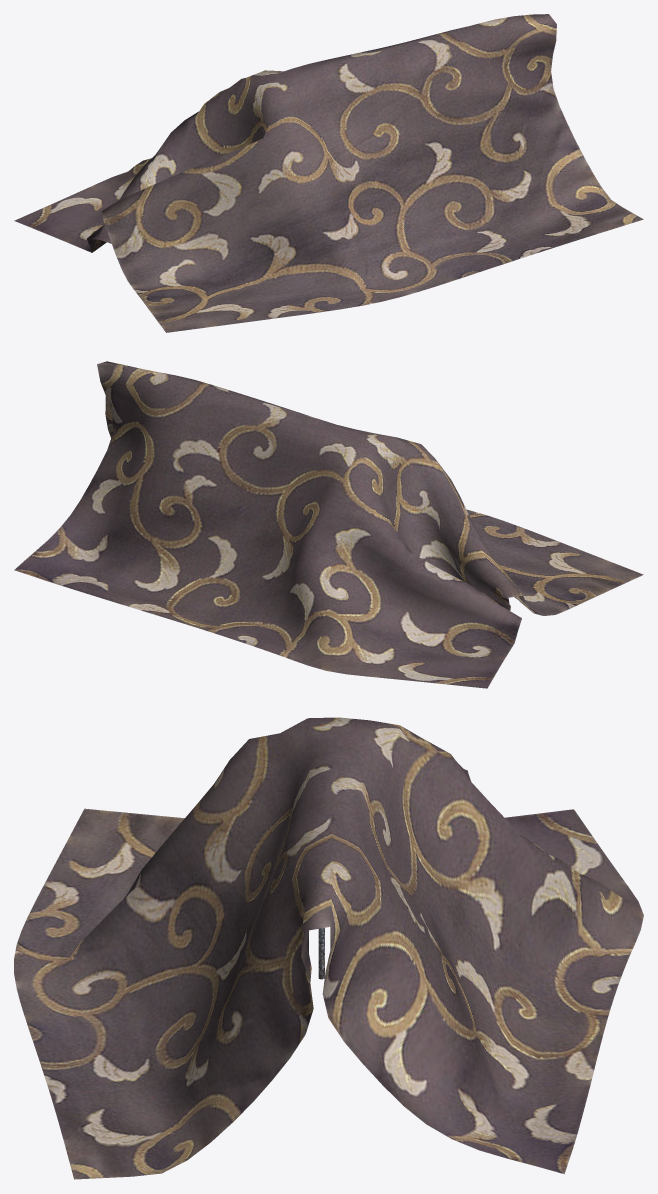
File: Efortless tent.fbx
The picture shows the model from 3 angles, top to bottom: view 1: azimuth 30°, elevation 25°; view 2: azimuth 150°, elevation 25°; view 3: azimuth 270°, elevation 25°; orthographic projection. The views are drawn at different scales.
Parts seen in each view (by area): view 1: tent_ka_top:pPlane1; view 2: tent_ka_top:pPlane1; view 3: tent_ka_top:pPlane1.
Boxes of the visible parts, x1,y1,x2,y2 form: tent_ka_top:pPlane1: (14, 14, 643, 332); tent_ka_top:pPlane1: (14, 361, 643, 688); tent_ka_top:pPlane1: (14, 717, 643, 1179).
Size of the model in its own units: 20.32 by 6.99 by 14.59.
2 materials, 2 textured.
